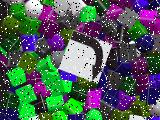Right: (59, 30, 112, 84)
